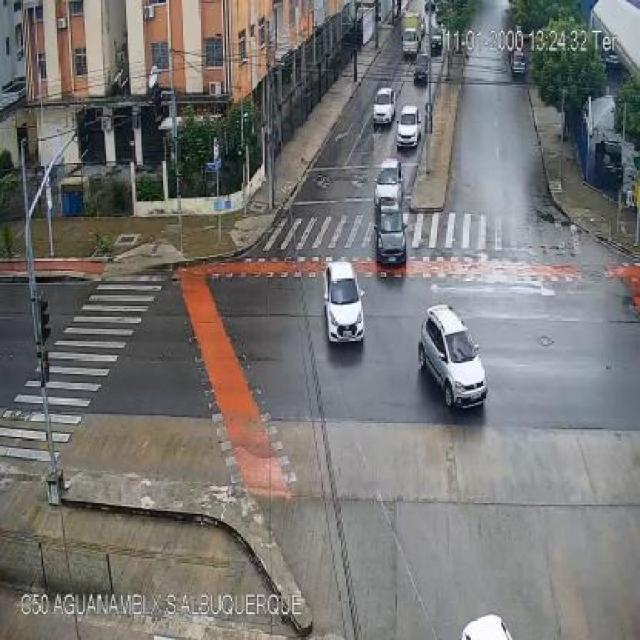Car: (420, 305, 490, 409), (322, 260, 366, 345), (376, 200, 410, 266), (373, 157, 404, 205), (395, 106, 422, 150), (371, 87, 397, 126), (410, 58, 431, 88)
Truck: (398, 9, 422, 58)
